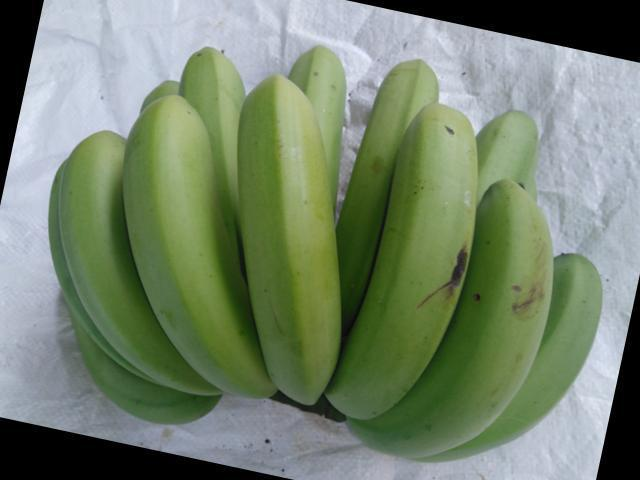freshunripe: (112, 87, 293, 402), (343, 99, 473, 443), (224, 70, 356, 400), (437, 170, 558, 434), (28, 114, 150, 372), (509, 237, 612, 438), (469, 96, 551, 195), (173, 21, 233, 138), (375, 48, 437, 109), (297, 26, 345, 104)
